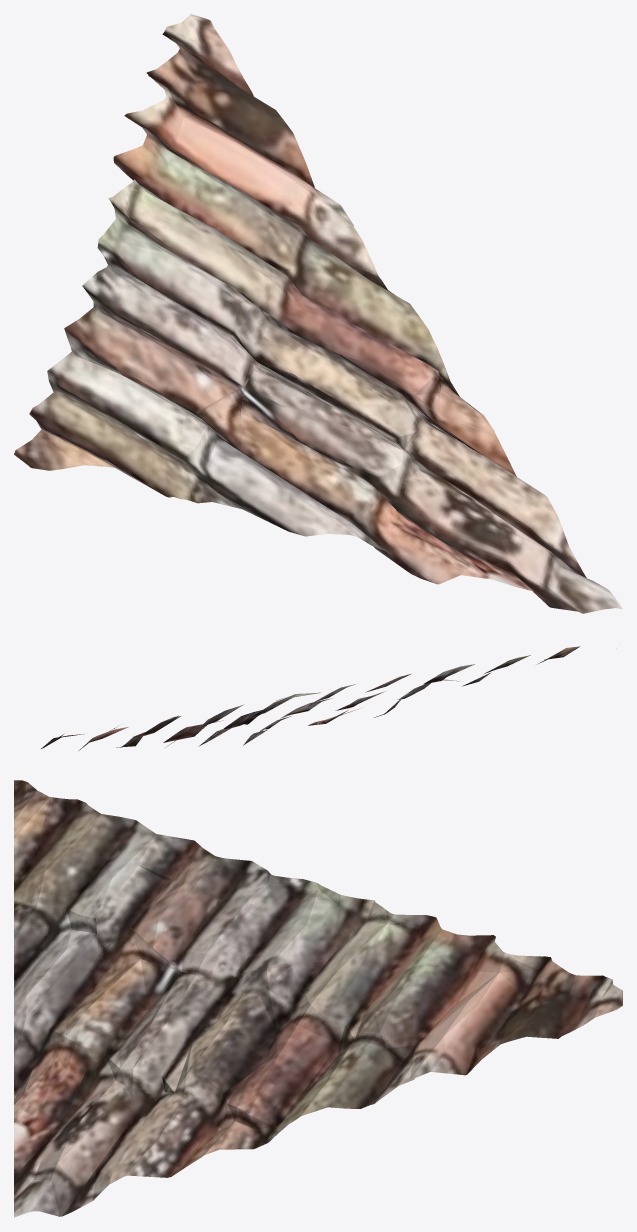
3 views of the same model, one above another, from view 1: azimuth 30°, elevation 25°; view 2: azimuth 150°, elevation 25°; view 3: azimuth 270°, elevation 25° (orthographic). The views are drawn at different scales.
Bounding box in the file's own units: 1.41 × 0.6674 × 1.67.
Materials: 2 (2 with a texture image).
